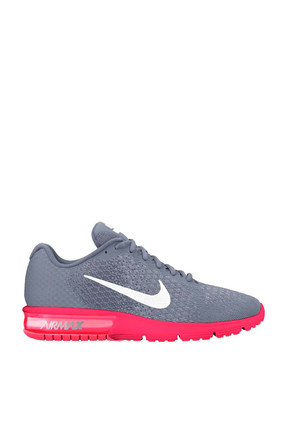nike: (81, 272, 171, 311)
